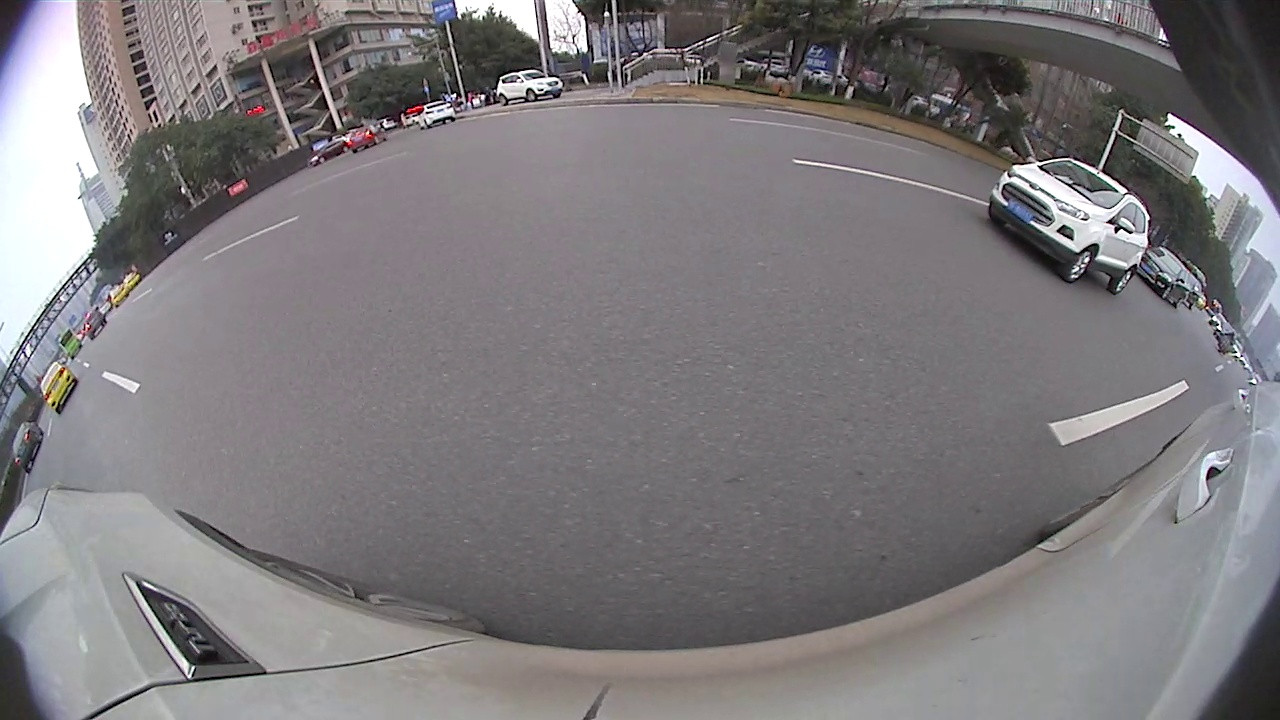car: (987, 158, 1150, 296), (1138, 245, 1190, 309), (495, 68, 564, 107), (38, 362, 80, 414), (11, 421, 43, 473), (419, 100, 456, 131)
front: (1063, 248, 1096, 282)
rear: (1110, 267, 1134, 294)
